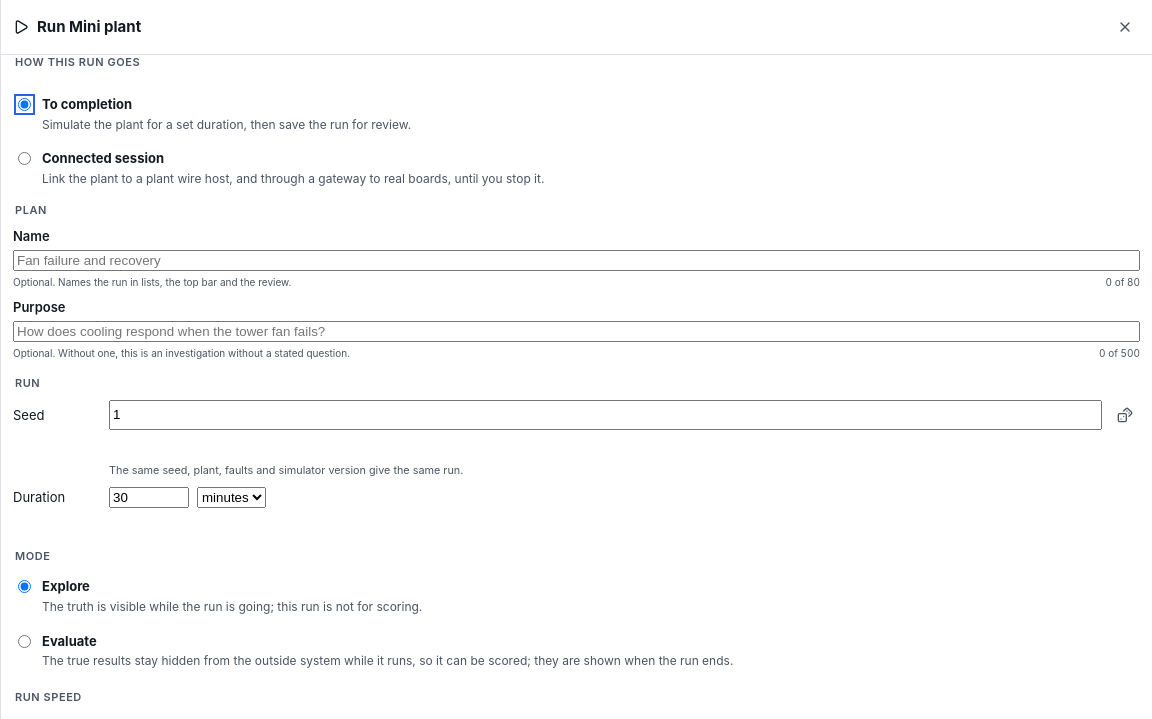
it: the list in effect and the workspace default › reports a write the bridge refused in its own words
Click the radio button labelled "Connected session": (24, 159) [18,152,31,165]
(page scrolled)
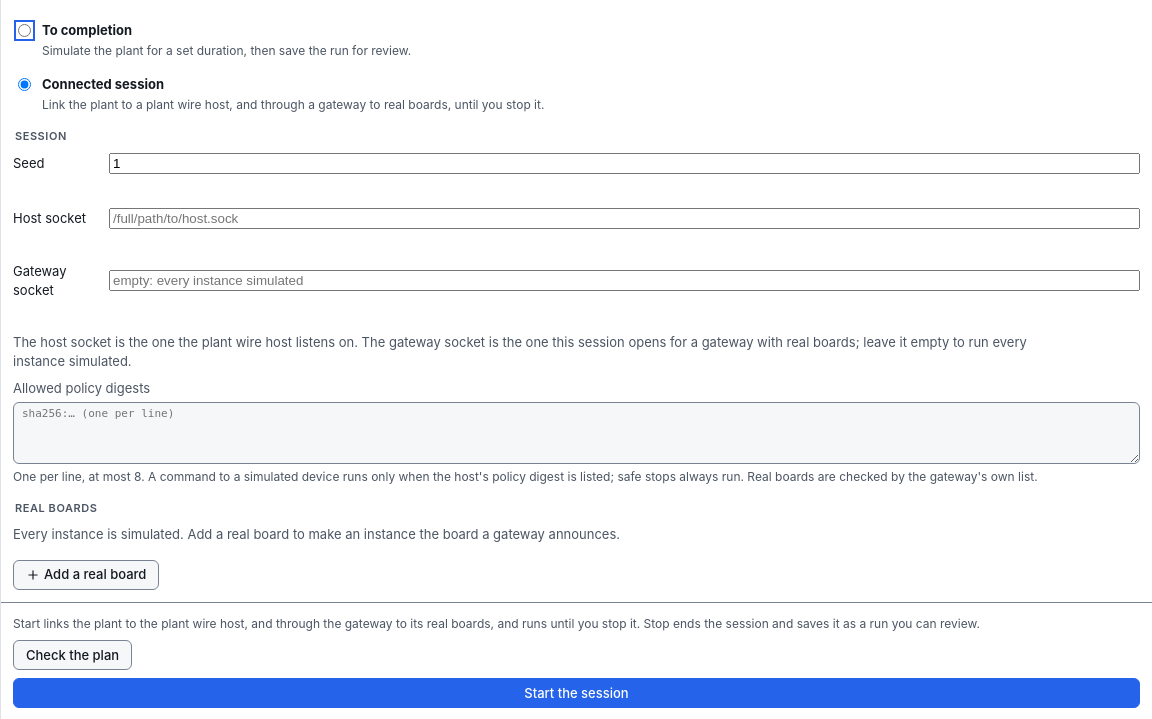
Click the button "Check the plan": (73, 655) [13,640,132,670]
(page scrolled)
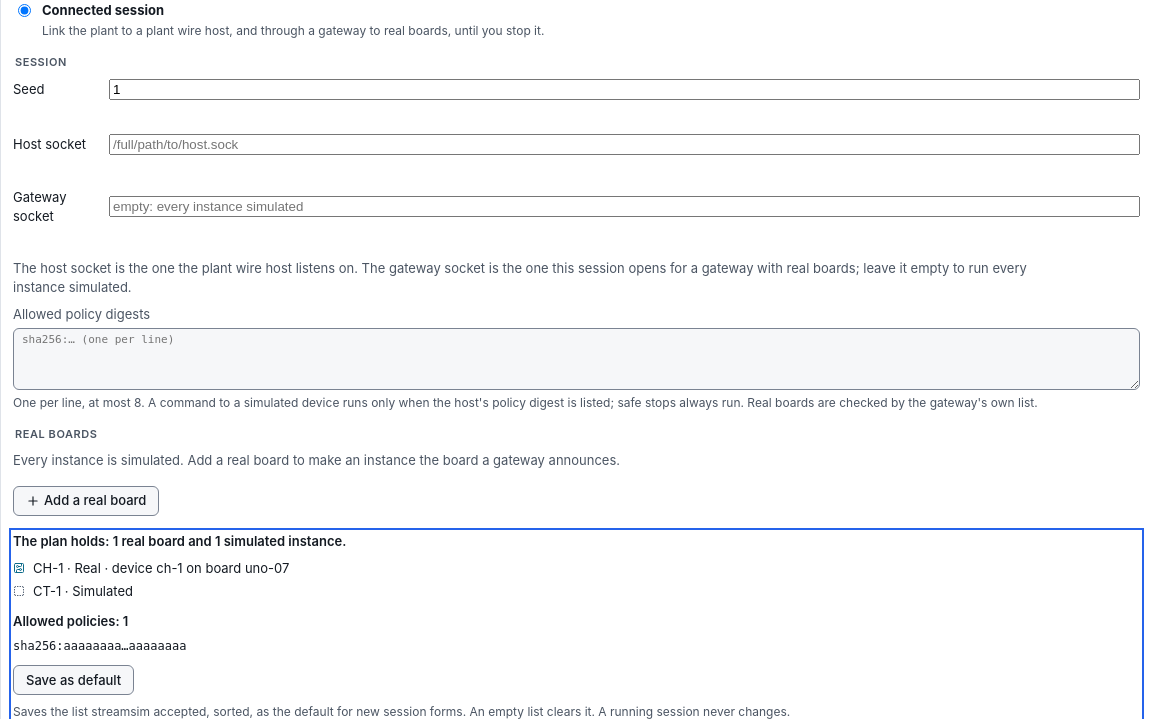
Result: the element named "Allowed policies in effect" is shown at [13,613,699,653]
Click the button "Save as default": (74, 680) [13,665,134,695]
(page scrolled)
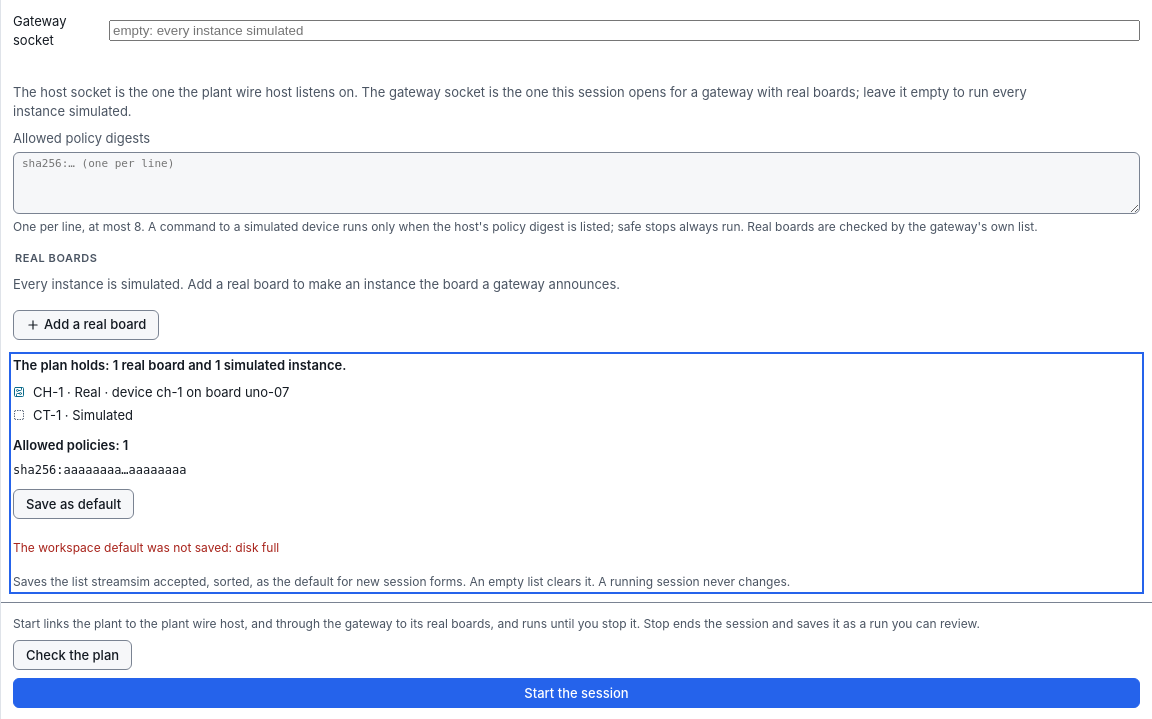
Result: the message "The workspace default was not saved: disk full" is shown at [13,540,279,555]
